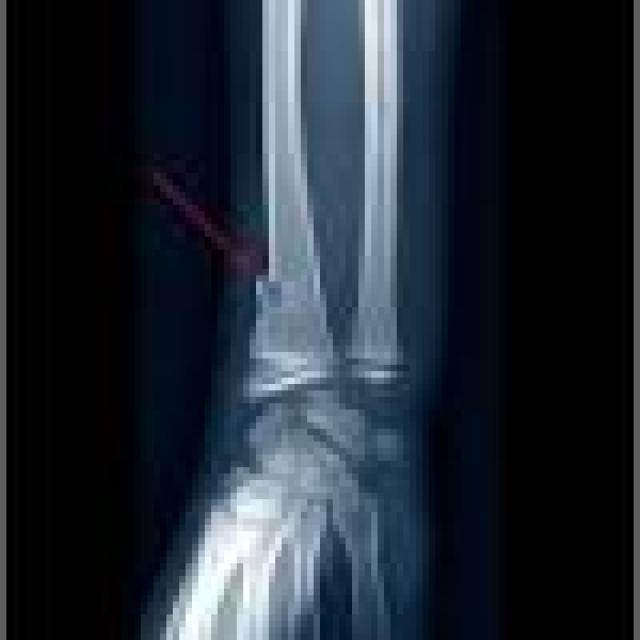Greenstick: (214, 305, 442, 570)
